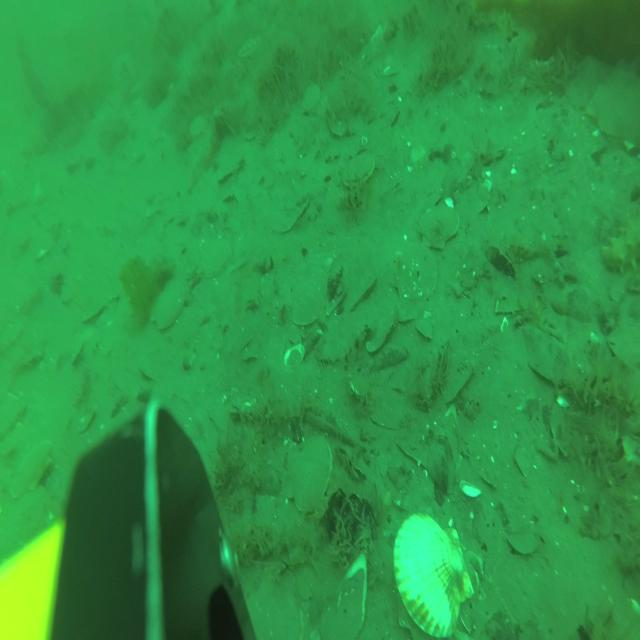scallop: (394, 508, 474, 640), (281, 432, 331, 522), (584, 78, 640, 148), (8, 442, 53, 501), (394, 249, 442, 304), (418, 202, 461, 252), (360, 301, 398, 356), (340, 265, 377, 315), (152, 286, 191, 332), (291, 279, 327, 328), (504, 521, 540, 565), (338, 156, 378, 195), (200, 239, 235, 281), (301, 79, 321, 117), (413, 314, 433, 344), (395, 298, 413, 325), (188, 115, 208, 139)
